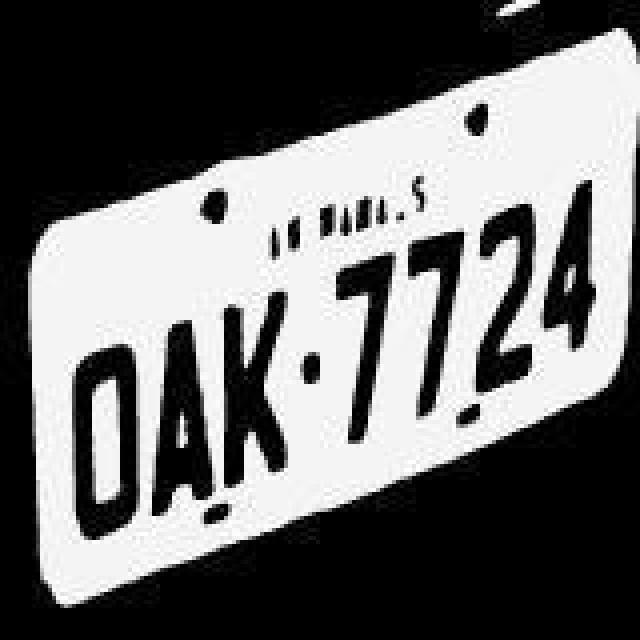2: (470, 194, 538, 398)
4: (536, 162, 600, 358)
7: (328, 246, 400, 450), (406, 224, 466, 424)
A: (148, 308, 220, 524)
K: (214, 286, 298, 498)
O: (48, 330, 144, 550)
